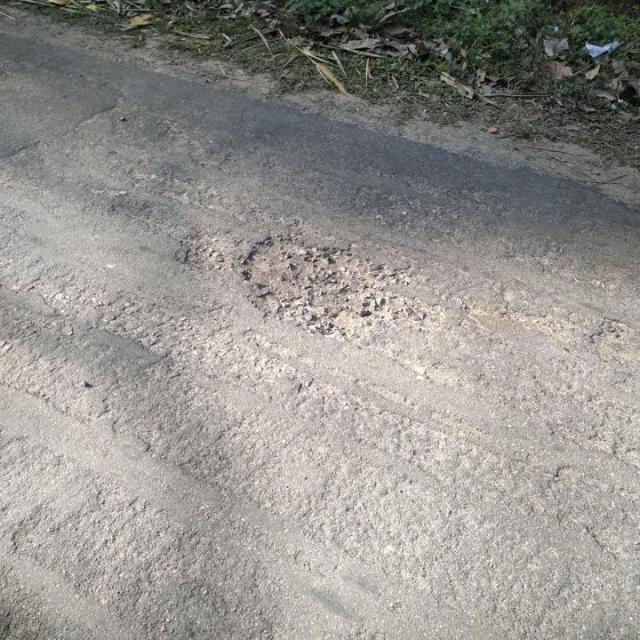pothole-eZet: (255, 240, 359, 330), (362, 273, 428, 332), (184, 228, 238, 277), (597, 319, 629, 345)
